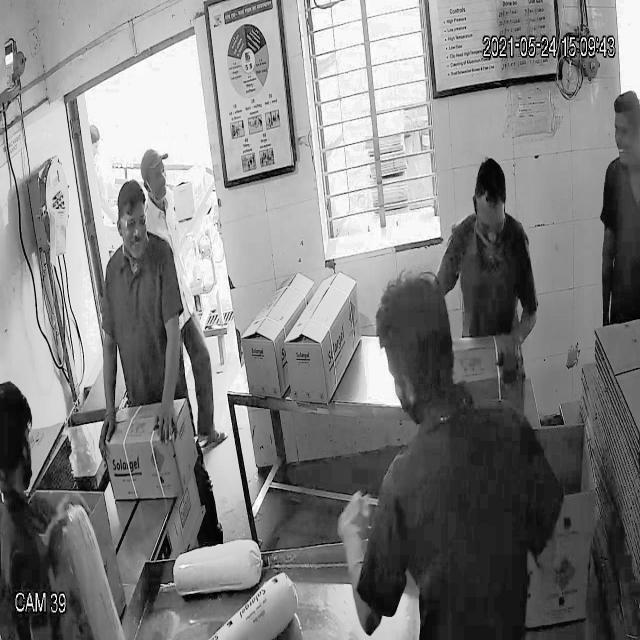glasses: (112, 209, 150, 237)
